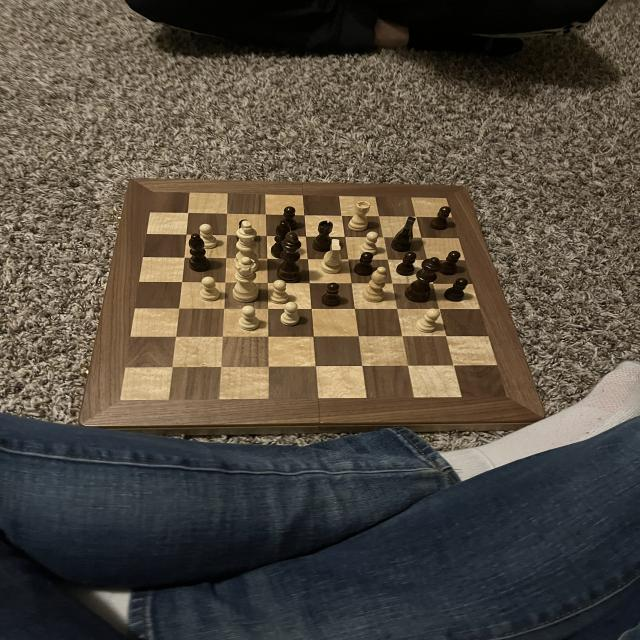bishop: (186, 232, 213, 273), (270, 219, 295, 259)
black-bishop: (275, 230, 308, 282)
black-king: (389, 212, 421, 254)
black-knight: (426, 205, 454, 233), (437, 248, 463, 278), (318, 281, 345, 309), (443, 276, 470, 304), (394, 251, 421, 276), (353, 251, 378, 278), (277, 204, 300, 230), (236, 217, 253, 236)
black-pawn: (405, 256, 444, 305)
black-queen: (311, 218, 337, 252)
black-rook: (360, 266, 392, 304)
white-bishop: (233, 220, 264, 272)
white-king: (319, 238, 347, 276)
white-knight: (412, 307, 443, 335), (237, 304, 262, 334), (197, 275, 223, 303), (279, 301, 305, 328), (265, 280, 292, 305), (357, 230, 382, 256), (198, 223, 220, 251)
white-pawn: (228, 255, 261, 306)
white-queen: (346, 200, 372, 234)
